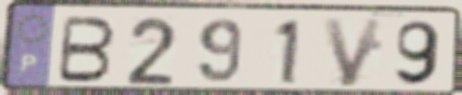1: (271, 18, 302, 86)
2: (126, 13, 180, 88)
9: (194, 17, 245, 86), (393, 19, 442, 88)
B: (54, 14, 119, 85)
V: (320, 16, 387, 89)
